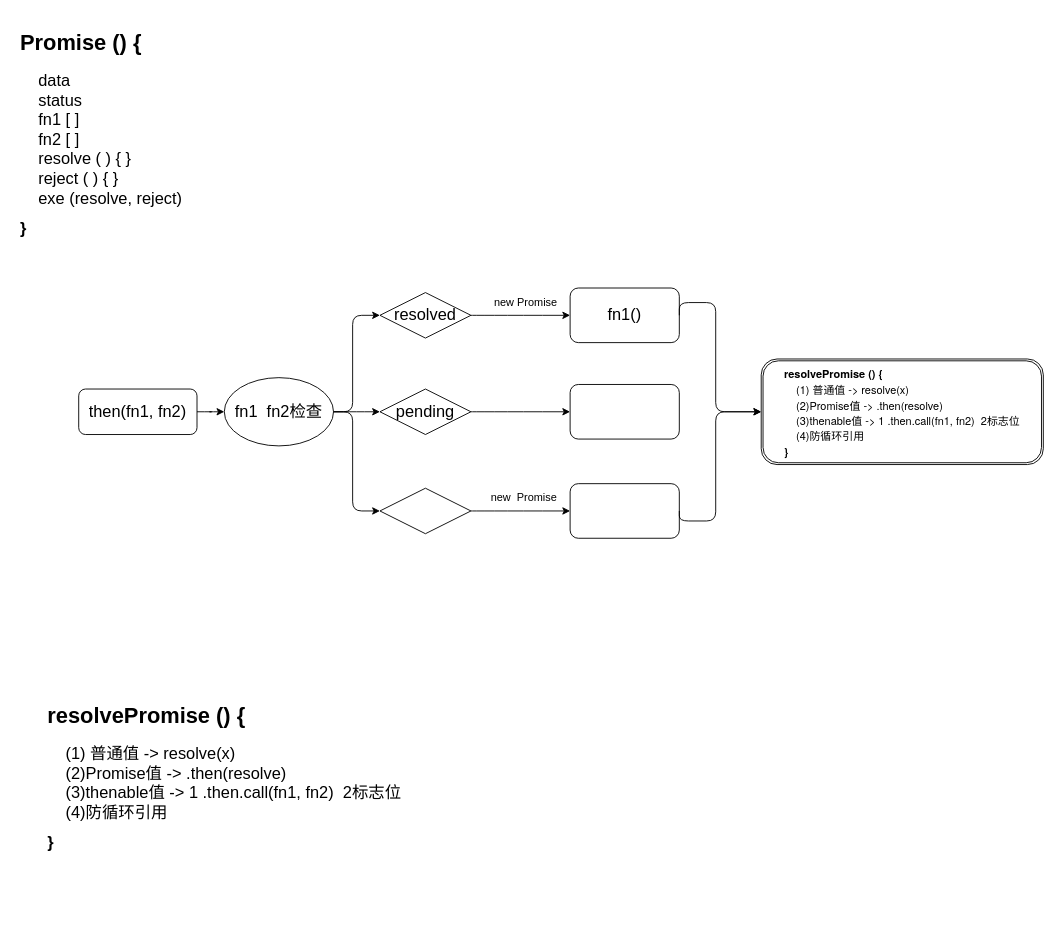
This 1059x941 diagram has some shape labels left out. The shapes that lost their labels are listed below. From the top down, each one's centre as x and y in pixels, then its label:
point 624,411: fn1( ) fn2( )
point 425,510: rejected
point 624,510: fn2()
